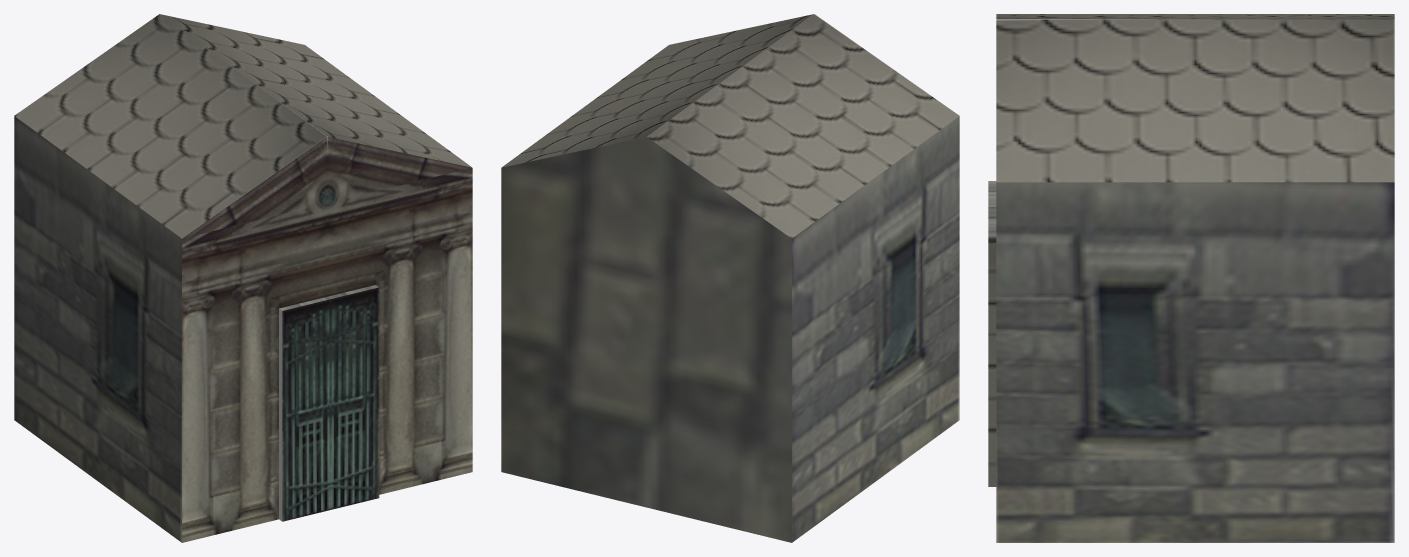
Rendered from mausoleum_exterior.fbx.
3 views of the same model, side by side, from view 1: azimuth 30°, elevation 25°; view 2: azimuth 150°, elevation 25°; view 3: azimuth 270°, elevation 25° (orthographic). The views are drawn at different scales.
Parts seen in each view (by area): view 1: mausoleumExterior; view 2: mausoleumExterior; view 3: mausoleumExterior.
Boxes of the visible parts, left/top/right/bottom form: mausoleumExterior: left=14, top=14, right=472, bottom=542; mausoleumExterior: left=501, top=14, right=959, bottom=542; mausoleumExterior: left=988, top=14, right=1394, bottom=542.
Size of the model in its own units: 455 by 554 by 464.
